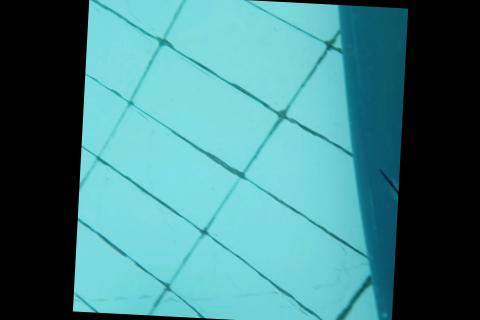keretakan: (372, 169, 400, 221)
